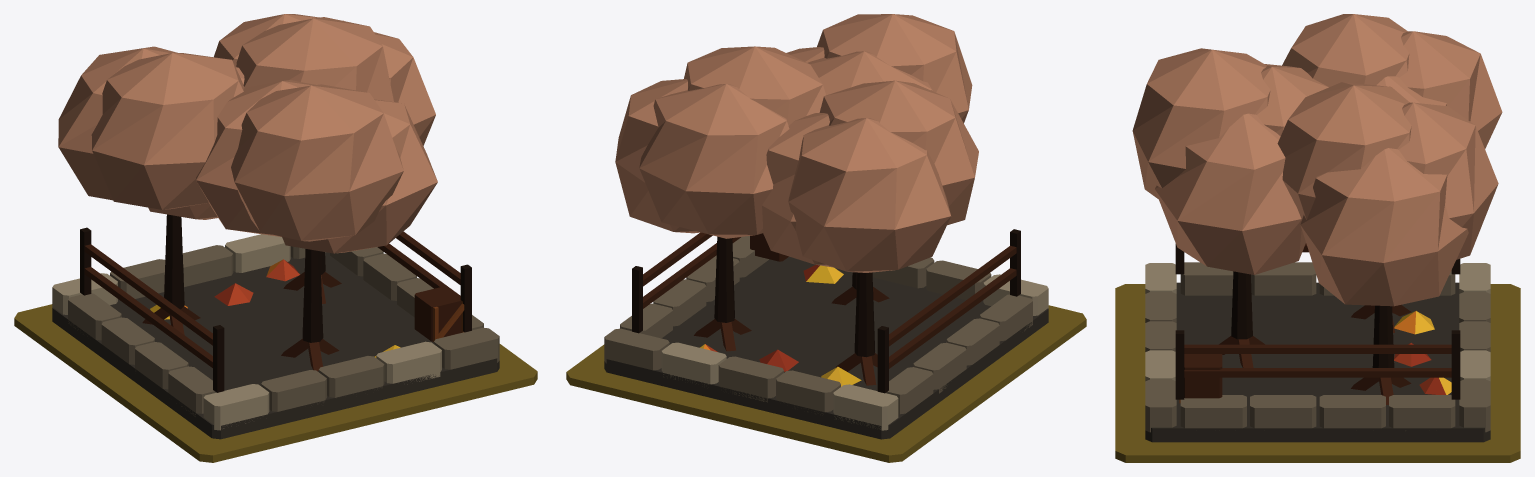
The model's file is frostgrove_t6.glb.
The picture shows the model from 3 angles, left to right: view 1: azimuth 30°, elevation 25°; view 2: azimuth 150°, elevation 25°; view 3: azimuth 270°, elevation 25°; orthographic projection. The views are drawn at different scales.
Visible parts, largest first — view 1: MMR | frostgrove | T06 Architecture.001, MMR | frostgrove | Tier 06 Ground.001, MMR | frostgrove | T06 Autumn Dressing.001; view 2: MMR | frostgrove | T06 Architecture.001, MMR | frostgrove | Tier 06 Ground.001, MMR | frostgrove | T06 Autumn Dressing.001; view 3: MMR | frostgrove | T06 Architecture.001, MMR | frostgrove | Tier 06 Ground.001, MMR | frostgrove | T06 Autumn Dressing.001.
Part boxes in pixels (left/top/right/bottom): MMR | frostgrove | T06 Architecture.001: left=52, top=14, right=499, bottom=439; MMR | frostgrove | Tier 06 Ground.001: left=14, top=304, right=537, bottom=462; MMR | frostgrove | T06 Autumn Dressing.001: left=150, top=259, right=400, bottom=357; MMR | frostgrove | T06 Architecture.001: left=604, top=14, right=1048, bottom=439; MMR | frostgrove | Tier 06 Ground.001: left=566, top=305, right=1086, bottom=462; MMR | frostgrove | T06 Autumn Dressing.001: left=700, top=265, right=861, bottom=386; MMR | frostgrove | T06 Architecture.001: left=1132, top=14, right=1502, bottom=442; MMR | frostgrove | Tier 06 Ground.001: left=1115, top=284, right=1520, bottom=462; MMR | frostgrove | T06 Autumn Dressing.001: left=1394, top=311, right=1451, bottom=394.
Size of the model in its own units: 2.43 by 2.04 by 2.35.
Materials: 1 (1 with a texture image).
